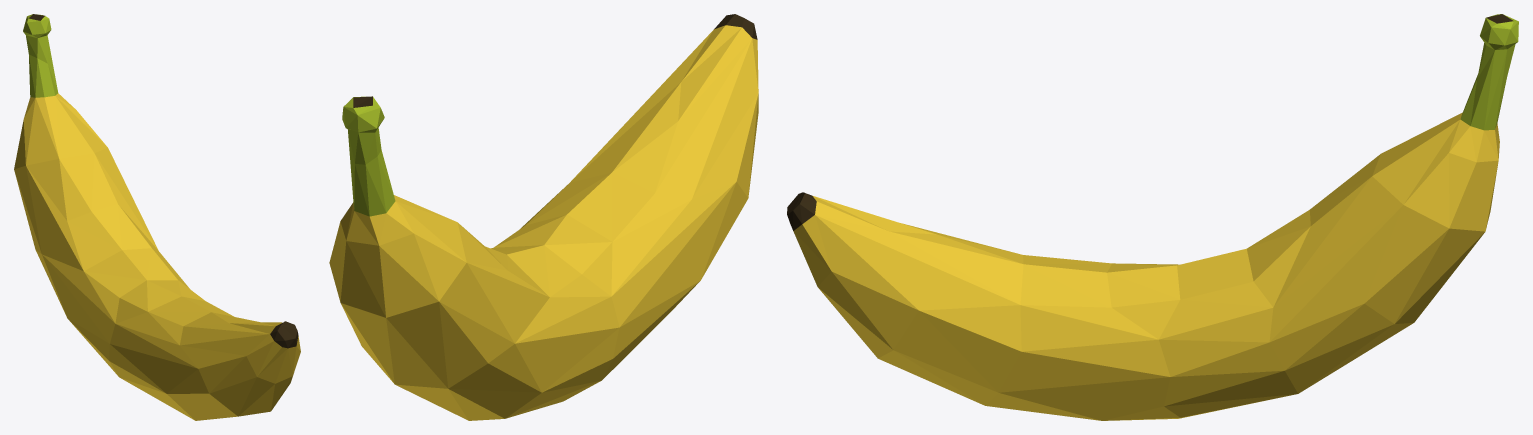
File: banana.fbx
3 views of the same model, side by side, from view 1: azimuth 30°, elevation 25°; view 2: azimuth 150°, elevation 25°; view 3: azimuth 270°, elevation 25° (orthographic). The views are drawn at different scales.
Parts seen in each view (by area): view 1: Cylinder; view 2: Cylinder; view 3: Cylinder.
Boxes of the visible parts, <box> form: Cylinder: <box>14,14,300,420</box>; Cylinder: <box>329,14,758,420</box>; Cylinder: <box>787,14,1518,420</box>.
Bounding box in the file's own units: 195 × 535 × 902.
